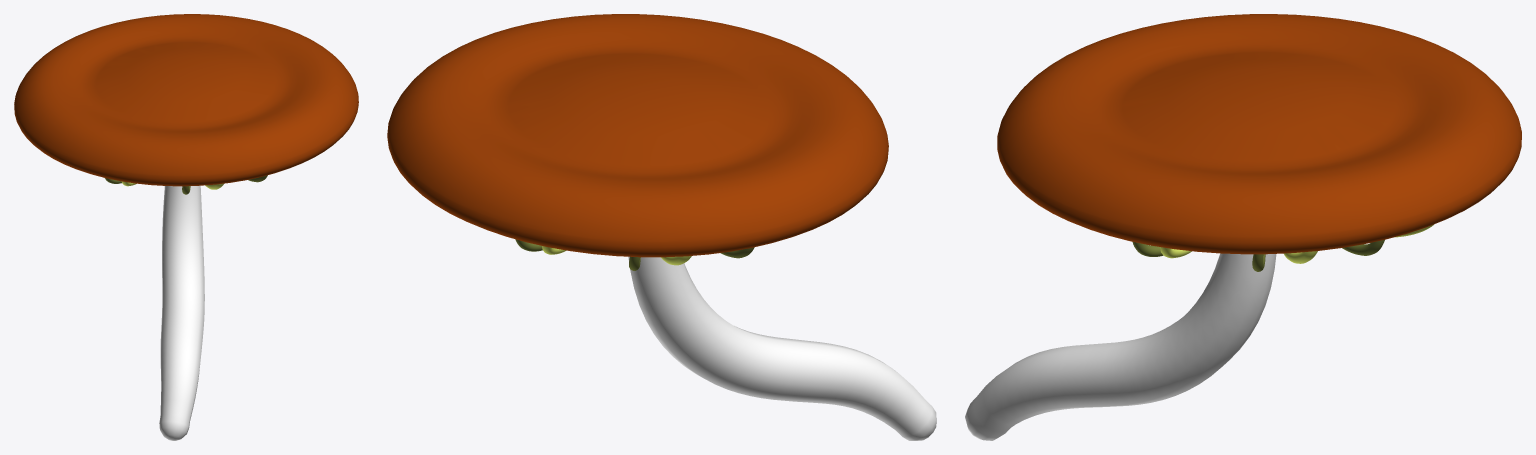
File: shroom_7.glb
3 renders of one model, left to right at view 1: azimuth 30°, elevation 25°; view 2: azimuth 150°, elevation 25°; view 3: azimuth 270°, elevation 25°, orthographic. The views are drawn at different scales.
Visible parts, largest first — view 1: s.0069; view 2: s.0069; view 3: s.0069.
Boxes of the visible parts, x1,y1,x2,y2 form: s.0069: (14, 14, 358, 440); s.0069: (387, 14, 936, 440); s.0069: (965, 14, 1521, 440).
Size of the model in its own units: 1.21 by 1.08 by 1.28.
